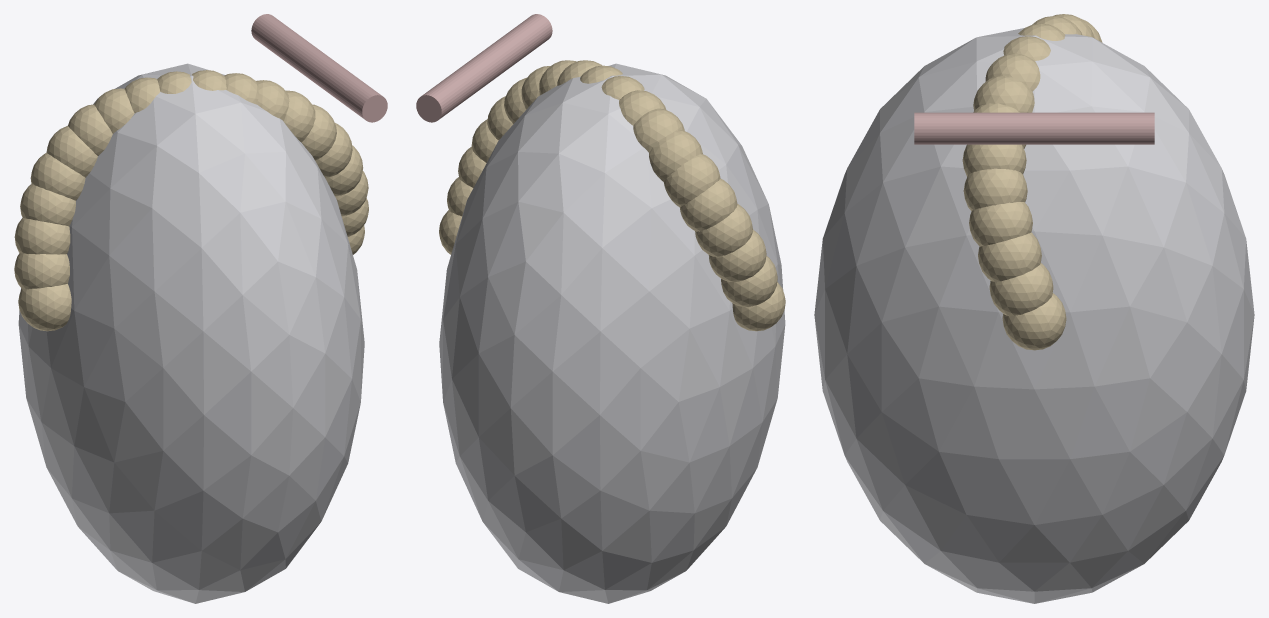
The model's file is testis.glb.
The picture shows the model from 3 angles, left to right: view 1: azimuth 30°, elevation 25°; view 2: azimuth 150°, elevation 25°; view 3: azimuth 270°, elevation 25°; orthographic projection. The views are drawn at different scales.
Parts seen in each view (by area): view 1: world; view 2: world; view 3: world.
Boxes of the visible parts, box(x1,y1,x2,y2) form: world: box(14, 14, 387, 603); world: box(416, 14, 785, 603); world: box(814, 14, 1254, 603).
Bounding box in the file's own units: 0.6846 × 1 × 0.7105.
